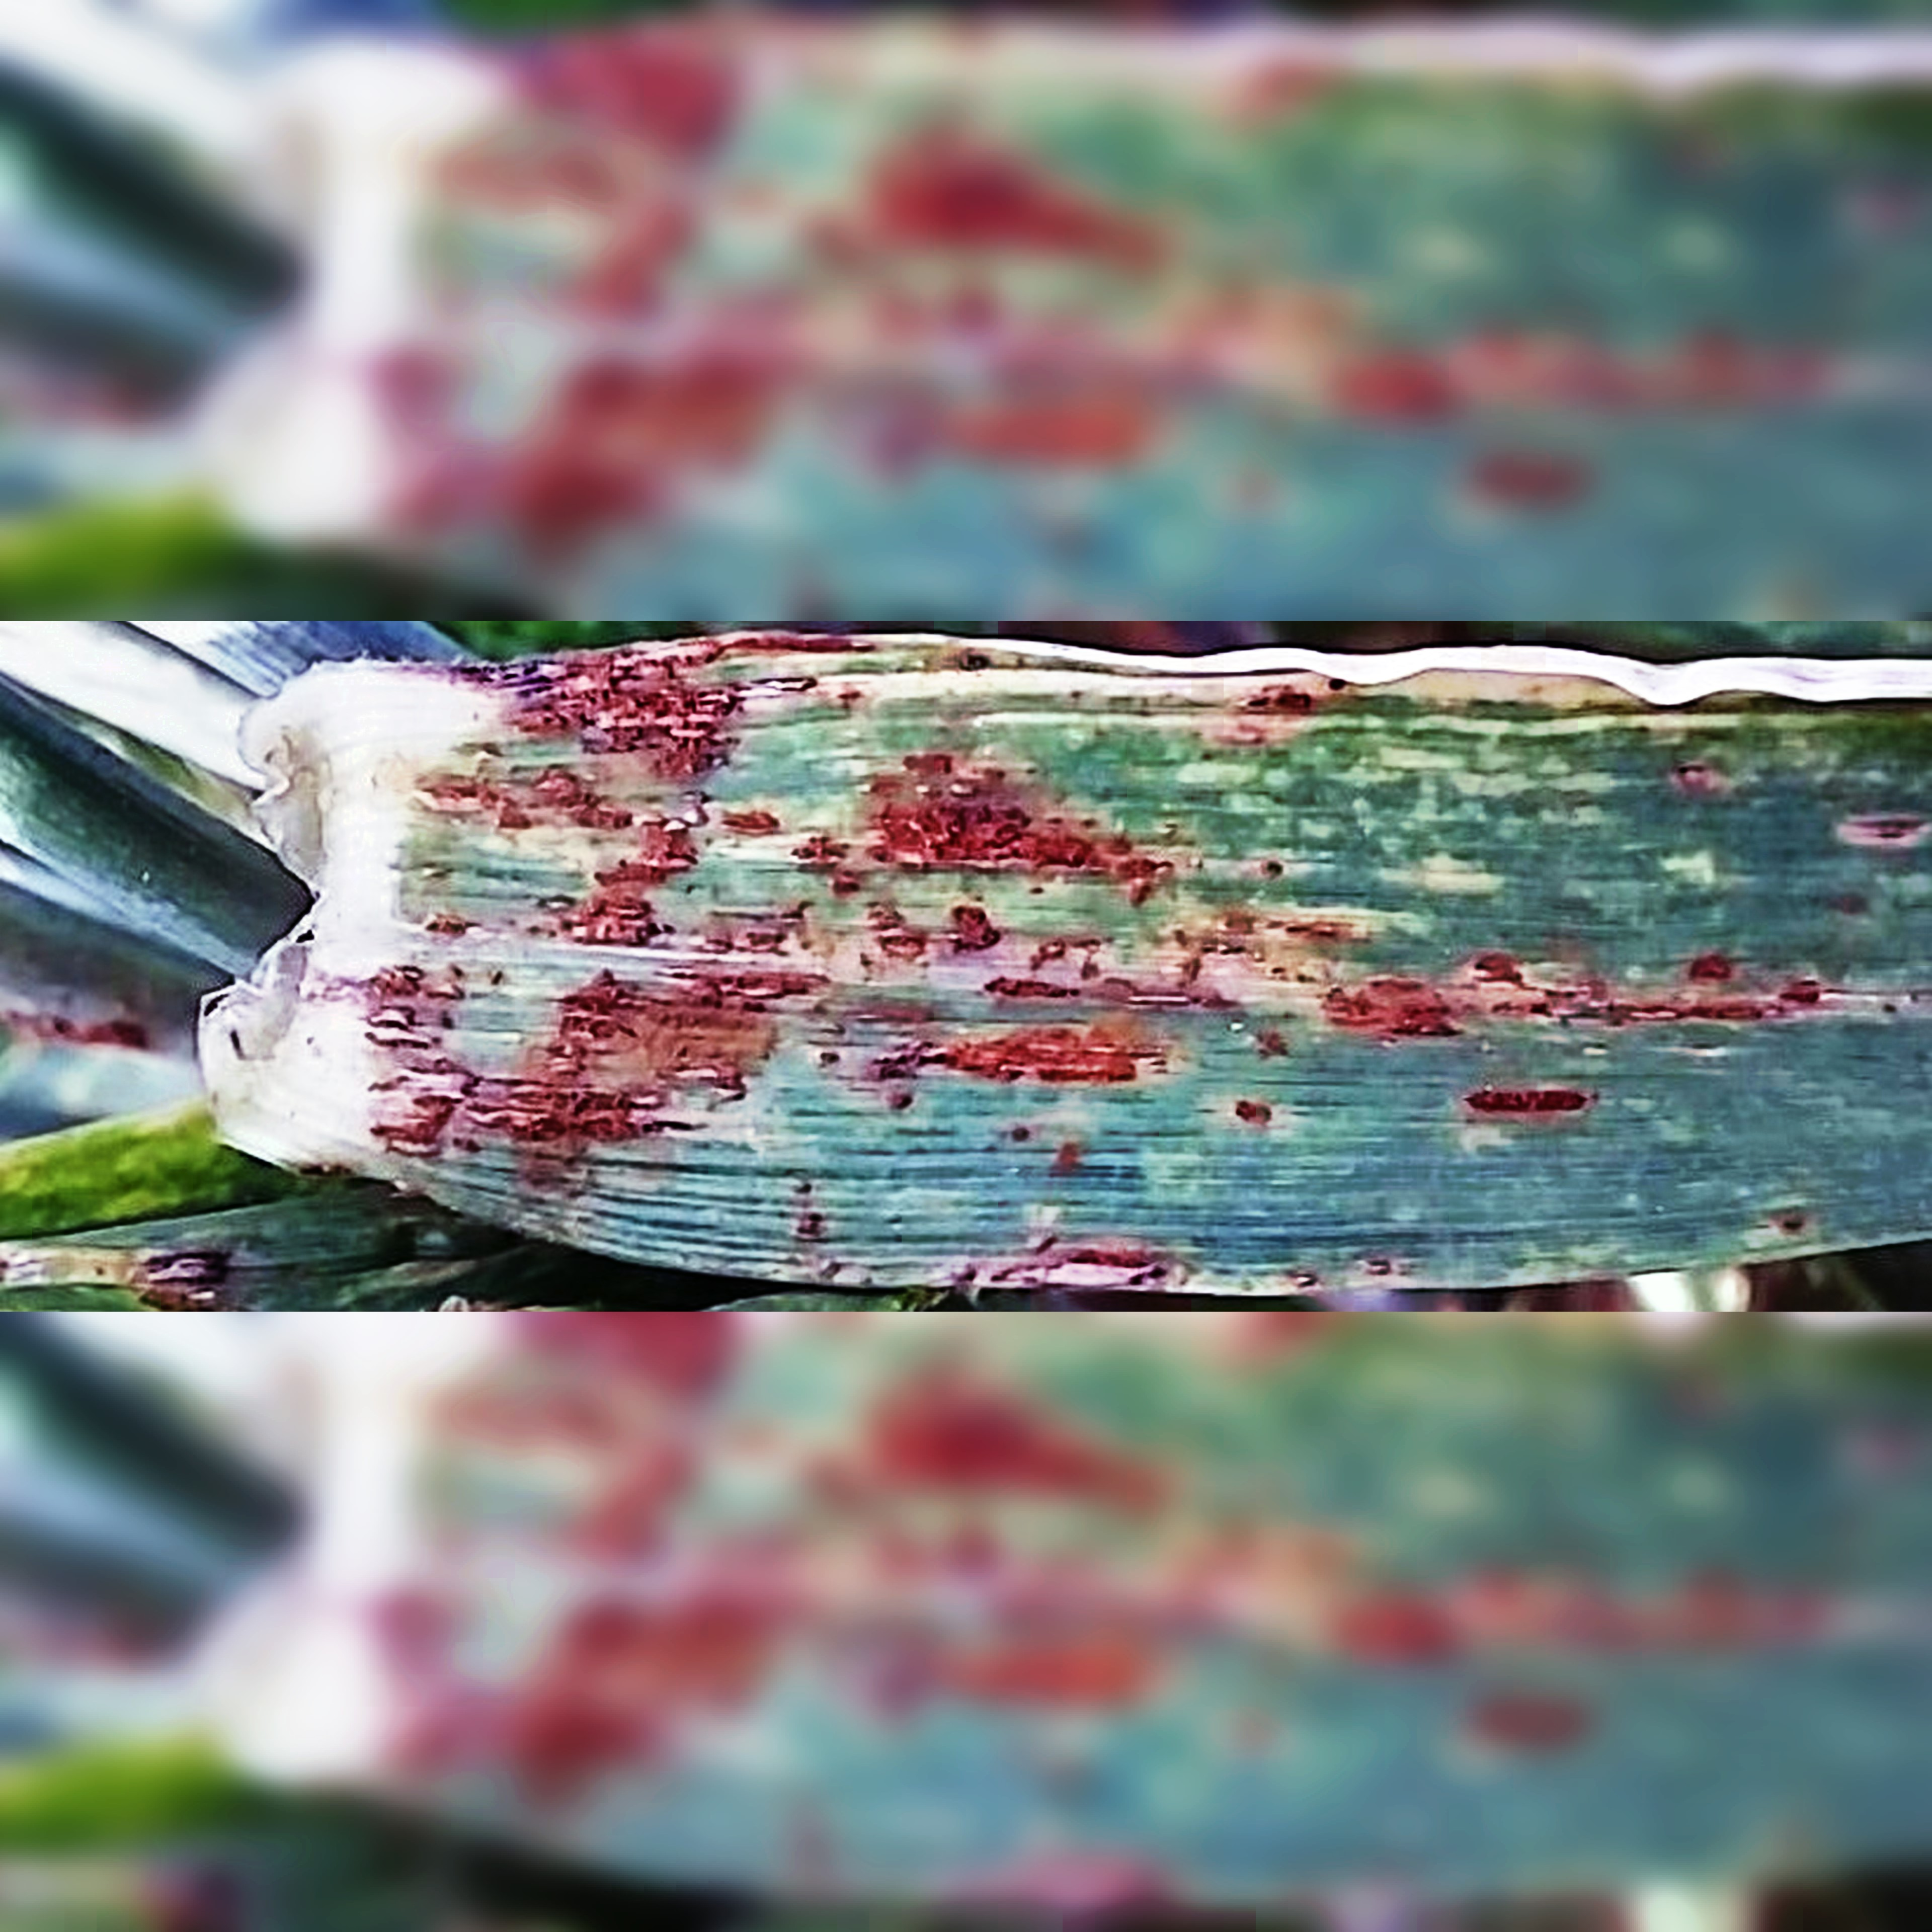Leaf Rust: (400, 663, 1746, 1290)
